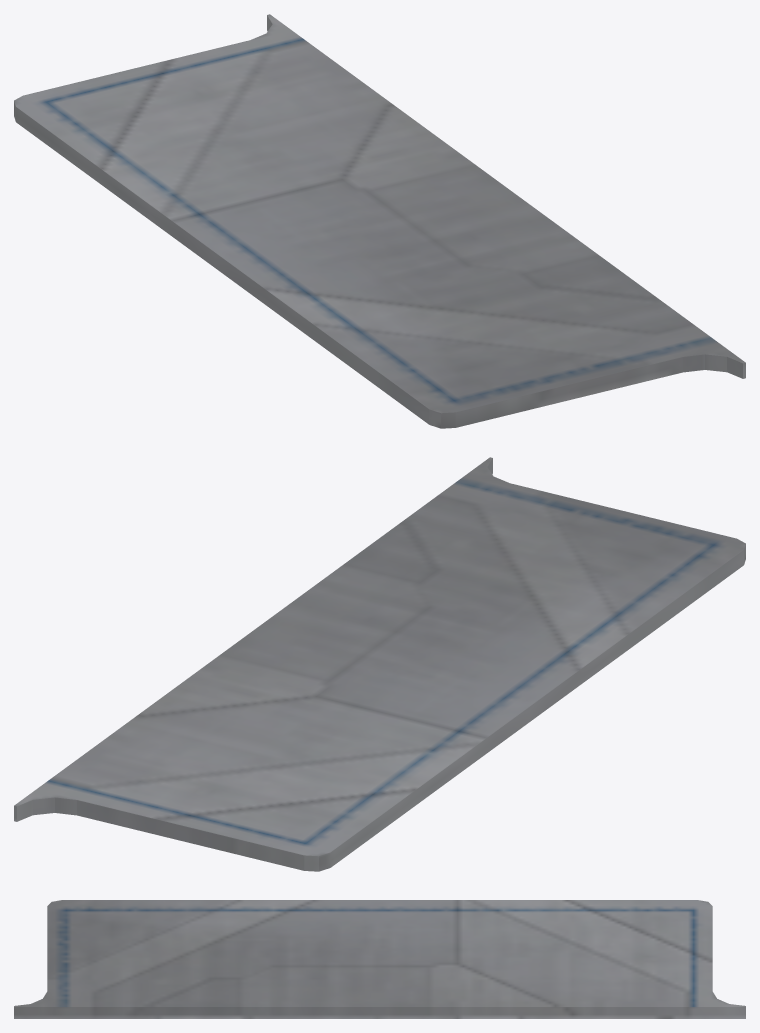
File: table_warehouse.glb
The picture shows the model from 3 angles, top to bottom: view 1: azimuth 30°, elevation 25°; view 2: azimuth 150°, elevation 25°; view 3: azimuth 270°, elevation 25°; orthographic projection. The views are drawn at different scales.
Parts seen in each view (by area): view 1: Table; view 2: Table; view 3: Table.
Boxes of the visible parts, box(x1,y1,x2,y2) form: Table: box(14, 14, 745, 428); Table: box(14, 457, 745, 871); Table: box(14, 900, 745, 1018).
Bounding box in the file's own units: 1.14 × 0.0593 × 3.3.
Materials: 1 (1 with a texture image).
